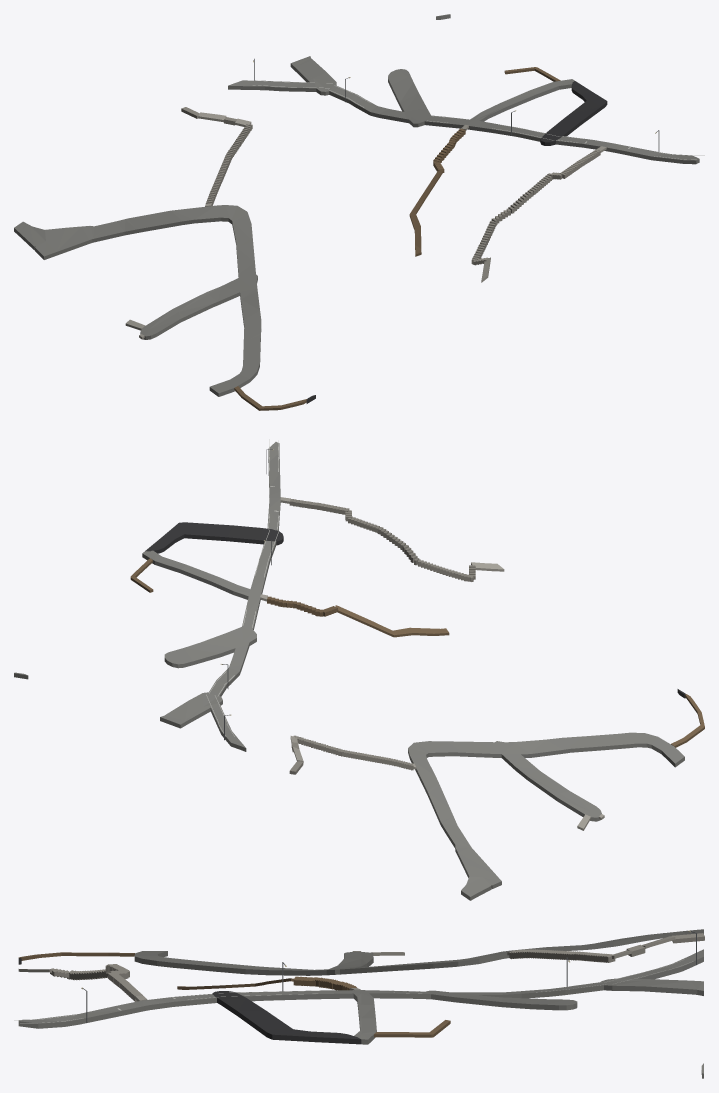
3 renders of one model, top to bottom at view 1: azimuth 30°, elevation 25°; view 2: azimuth 150°, elevation 25°; view 3: azimuth 270°, elevation 25°, orthographic. The views are drawn at different scales.
Size of the model in its own units: 149 by 57.73 by 147.
